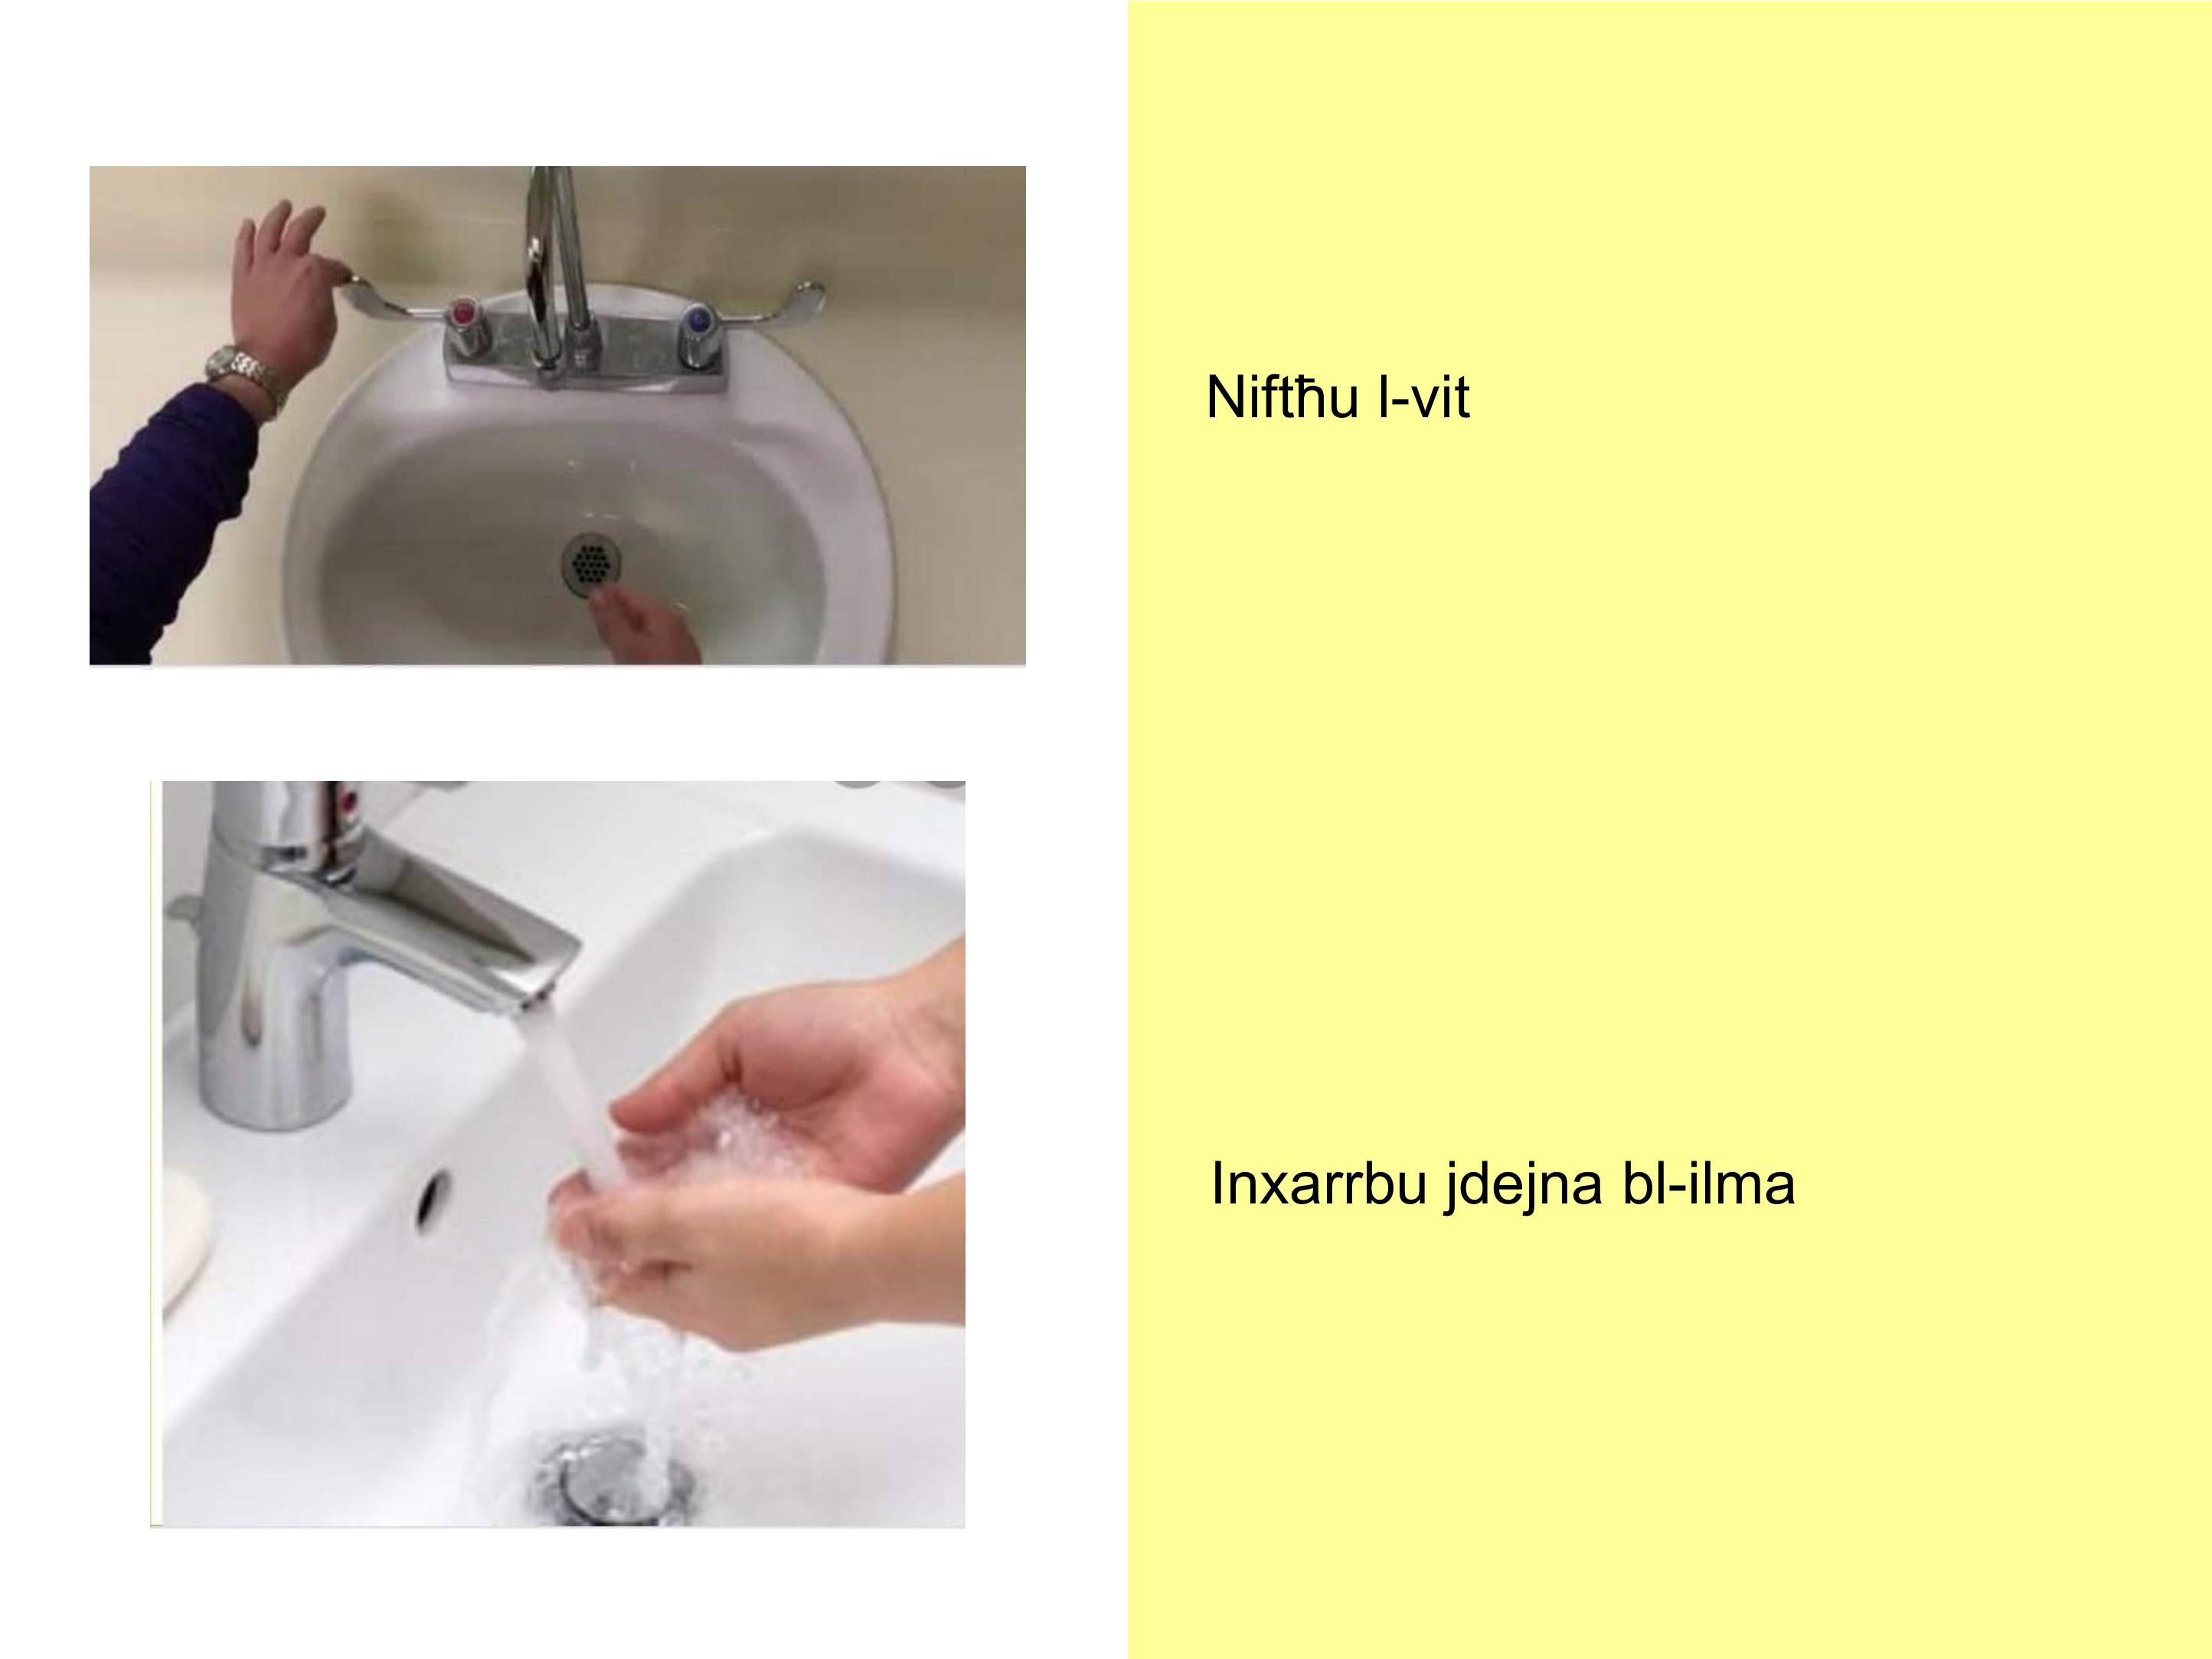text: (1178, 312, 1822, 1236)
